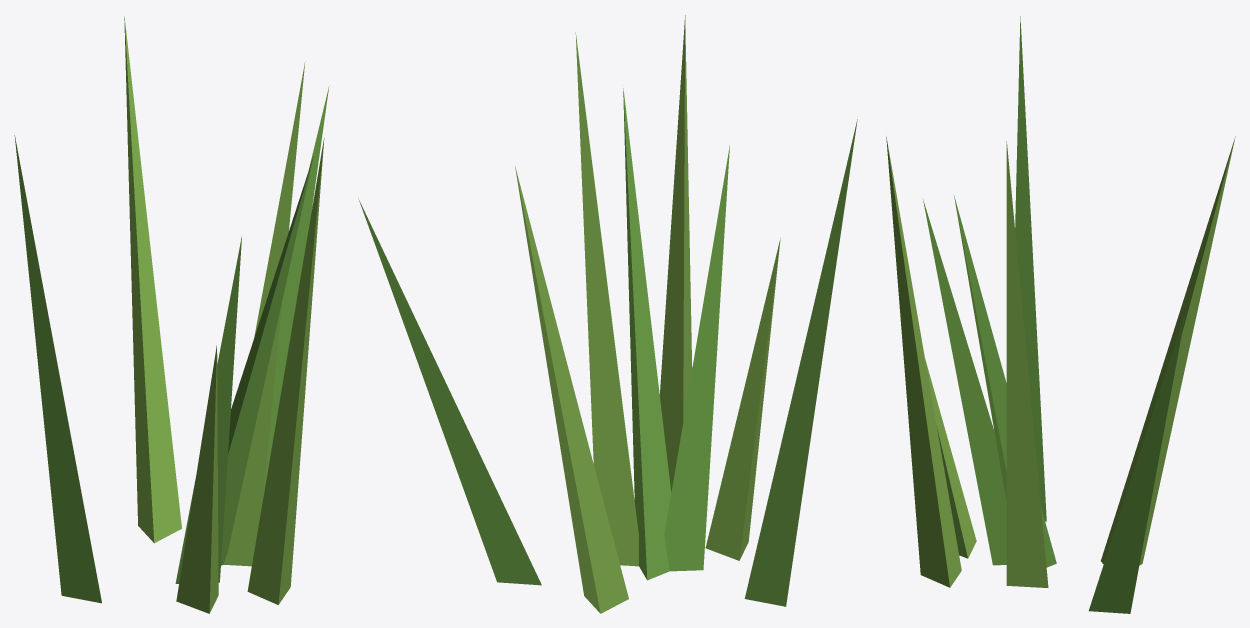
The model's file is grass_tuft.glb.
3 renders of one model, left to right at view 1: azimuth 30°, elevation 25°; view 2: azimuth 150°, elevation 25°; view 3: azimuth 270°, elevation 25°, orthographic. The views are drawn at different scales.
Visible parts, largest first — view 1: grass_tuft; view 2: grass_tuft; view 3: grass_tuft.
Boxes of the visible parts, x1,y1,x2,y2 form: grass_tuft: [14, 16, 329, 613]; grass_tuft: [358, 15, 857, 613]; grass_tuft: [886, 16, 1235, 613].
Bounding box in the file's own units: 0.2892 × 0.3398 × 0.2286.
1 material, 1 textured.
